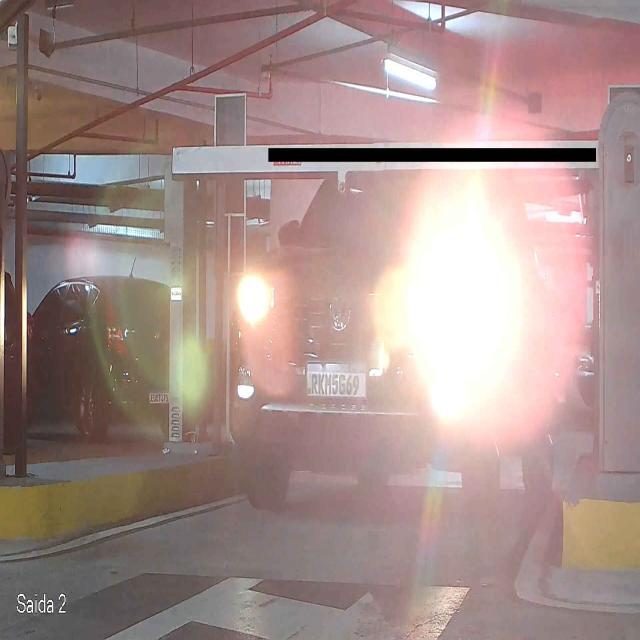mercosul_plate: (305, 360, 368, 400)
